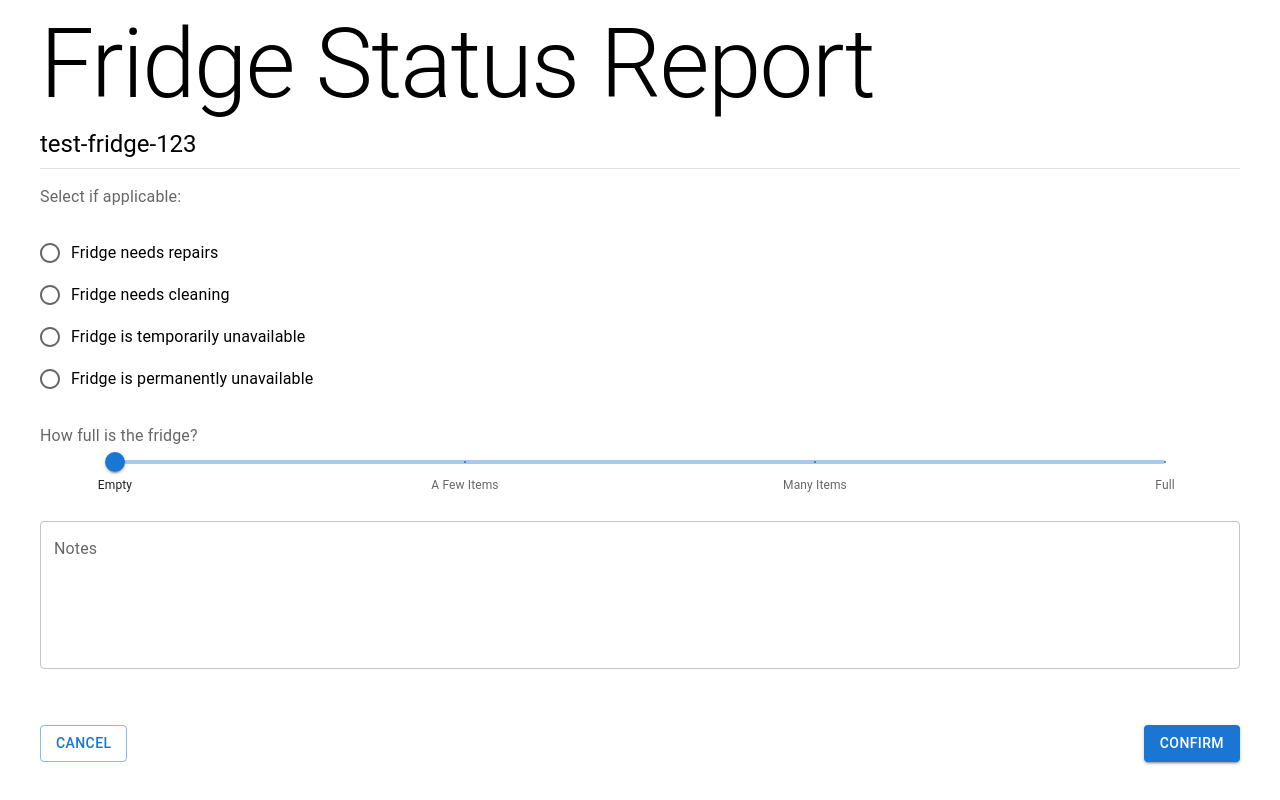
Scenario: FridgeReportPage › allows user to fill and submit the form
This screenshot has width=1280, height=800.
# Select a radio option
Step 1. Click the radio button labelled "Fridge needs cleaning" → {"x": 134, "y": 295}, box [38,283,230,307]
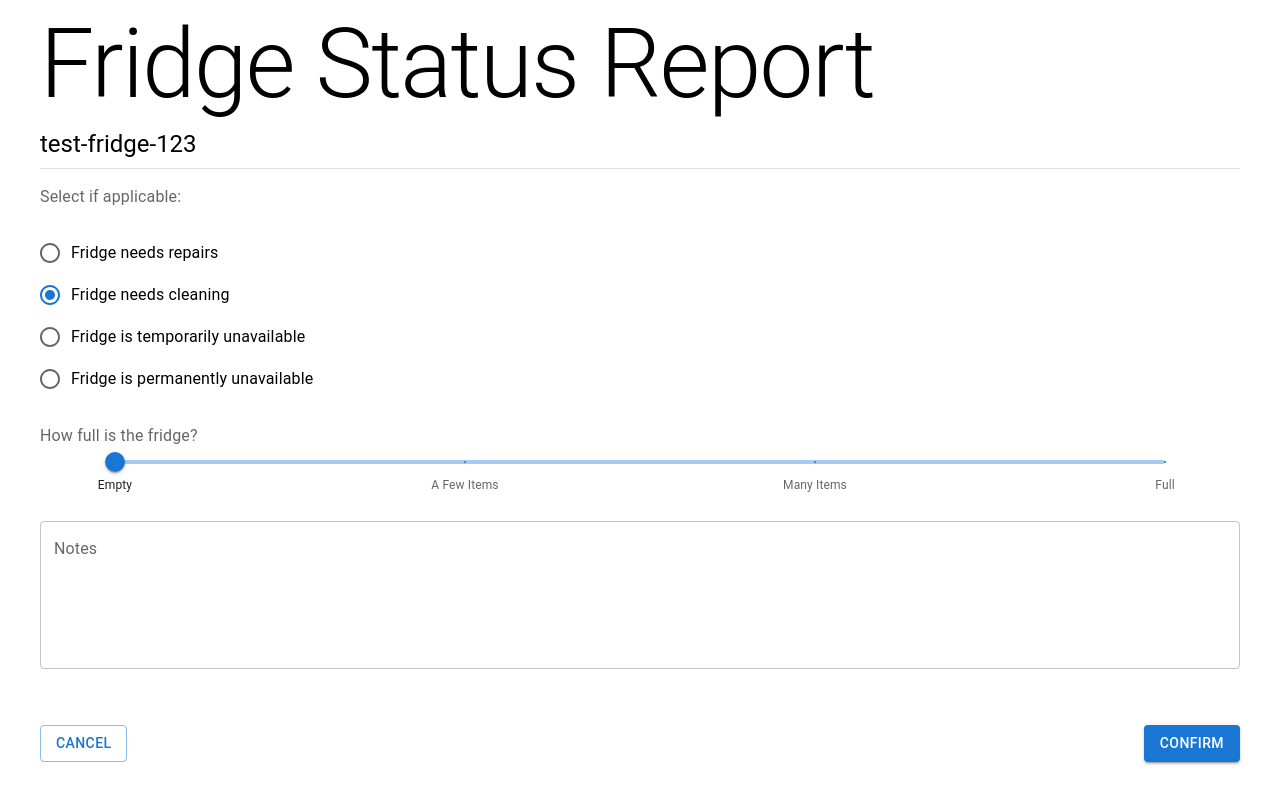
# Move slider (simulate change event)
Step 2. Set the slider named "Amount of food in the fridge" to "2" → {"x": 115, "y": 462}, box [105,452,125,472]
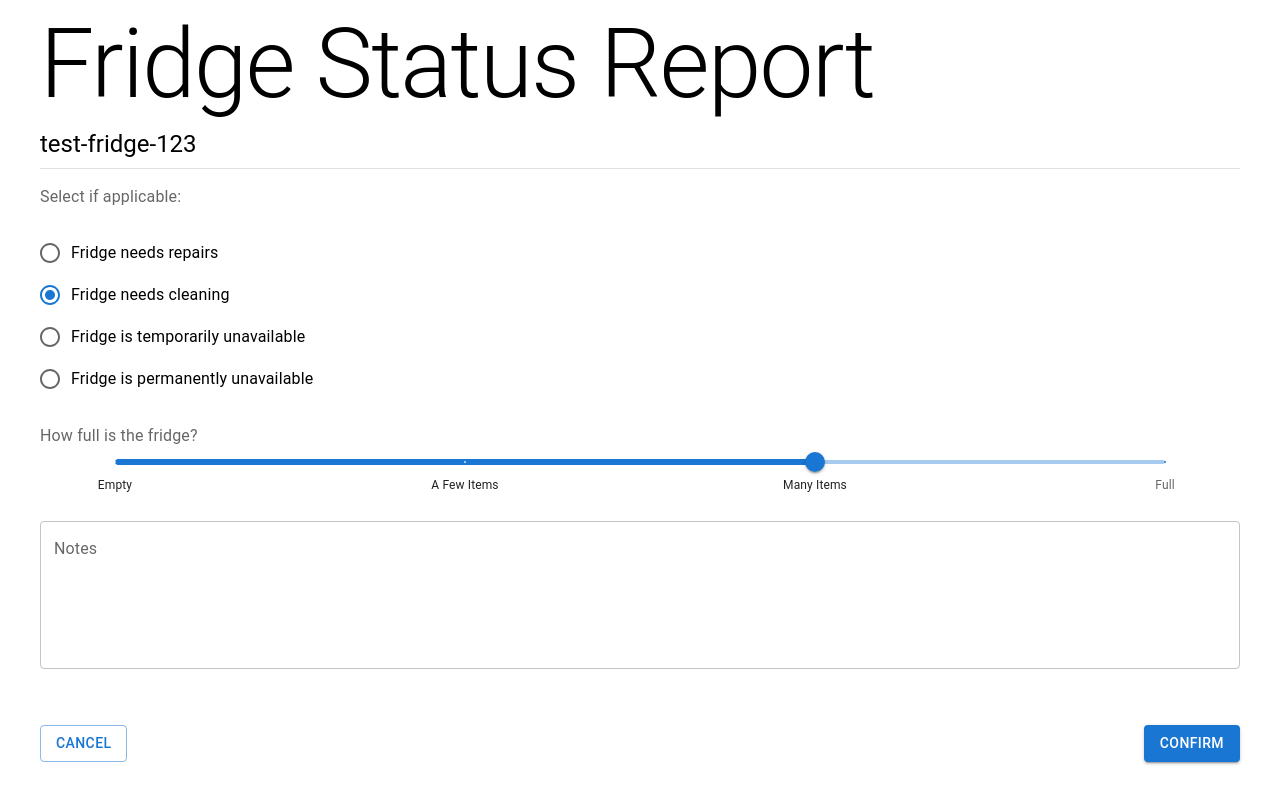
# Enter notes
Step 3. Type "Some notes" into the text box labelled "Notes" → {"x": 640, "y": 595}, box [54,538,1226,652]
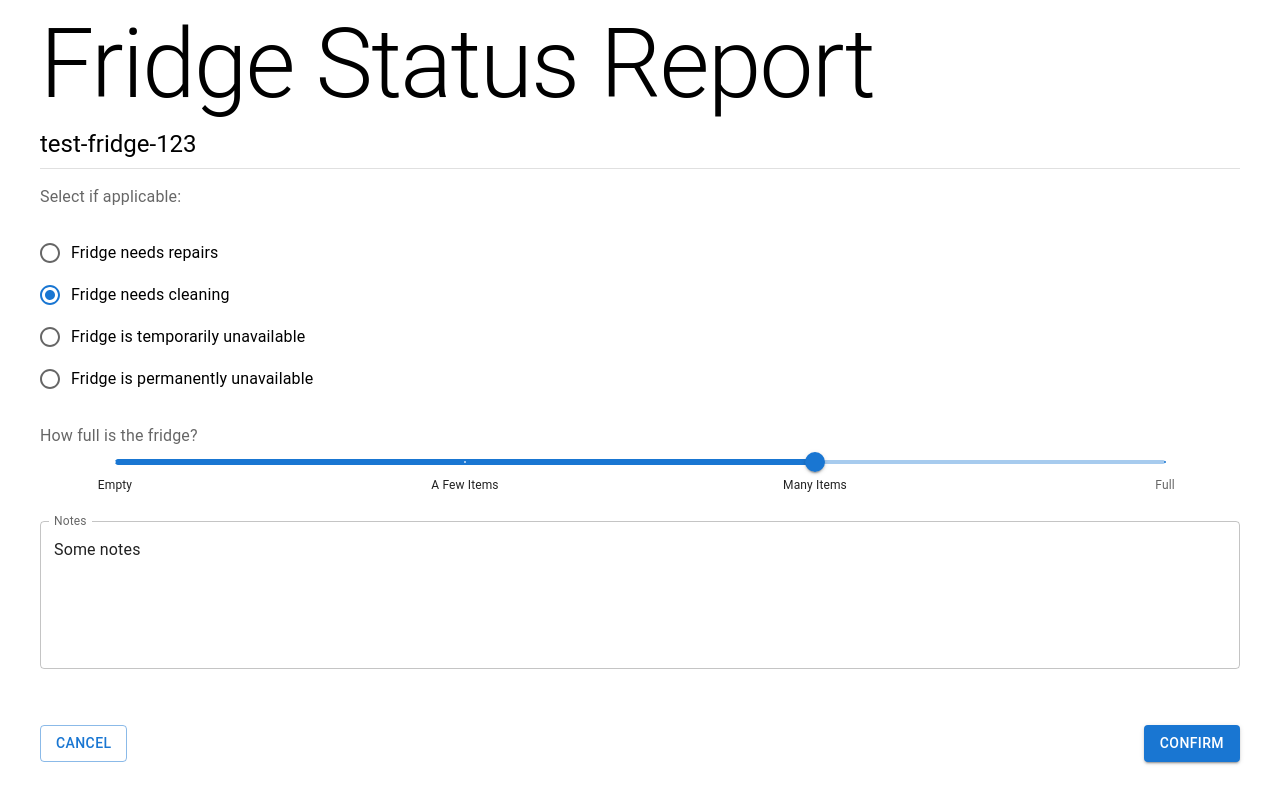
# trigger submit
Step 4. Click the button with aria-label "Submit status update" → {"x": 1192, "y": 743}, box [1144,725,1240,762]
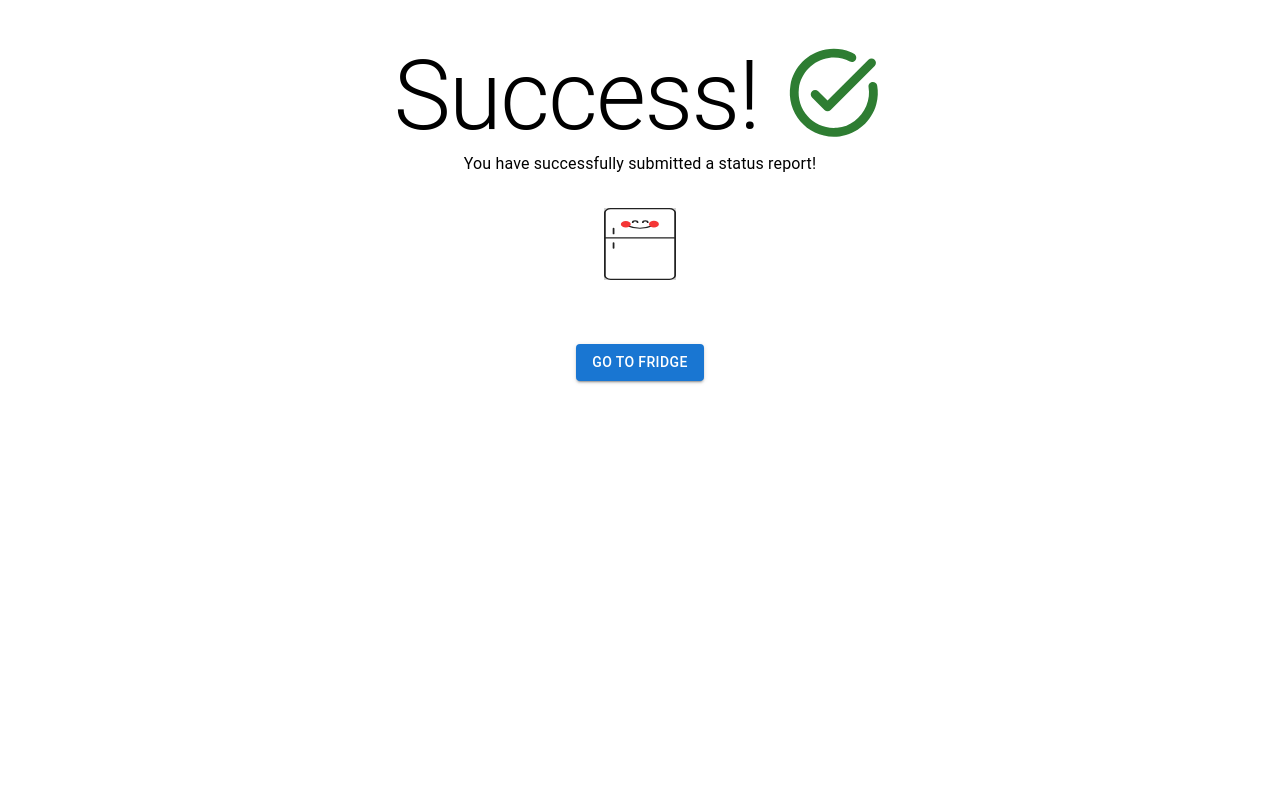
Result: the text "You have successfully submitted a status report!" is shown at [464,152,816,176]
